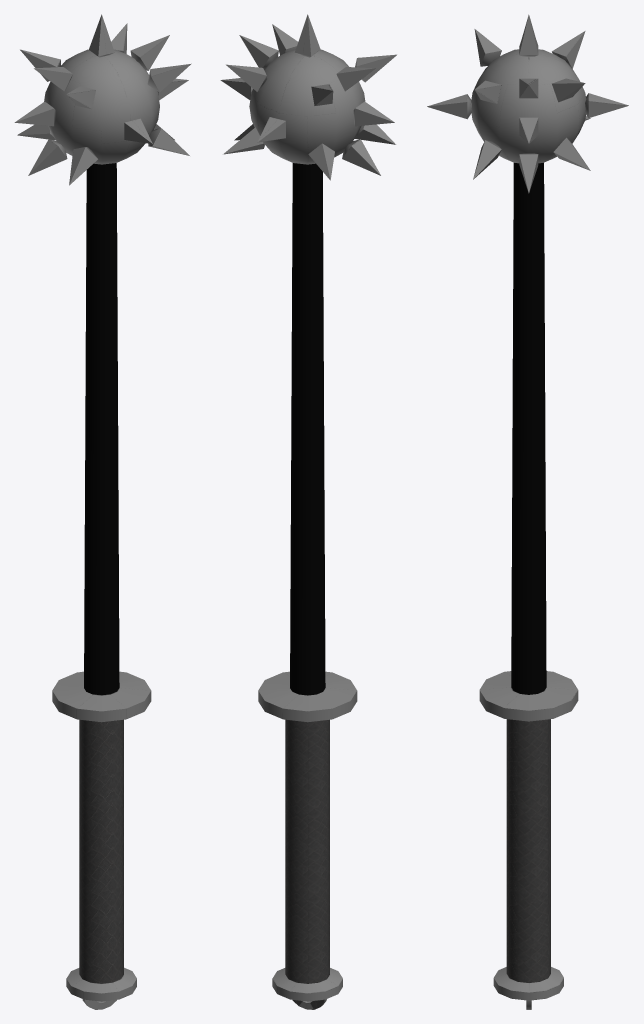
The model's file is EstrelaDaManha.fbx.
3 renders of one model, left to right at view 1: azimuth 30°, elevation 25°; view 2: azimuth 150°, elevation 25°; view 3: azimuth 270°, elevation 25°, orthographic.
Parts seen in each view (by area): view 1: EstrelaDaManha; view 2: EstrelaDaManha; view 3: EstrelaDaManha.
Part boxes in pixels (x1,y1,x2,y2): EstrelaDaManha: [14, 14, 191, 1009]; EstrelaDaManha: [220, 14, 396, 1009]; EstrelaDaManha: [427, 14, 628, 1009].
Bounding box in the file's own units: 0.2605 × 1.41 × 0.262.
